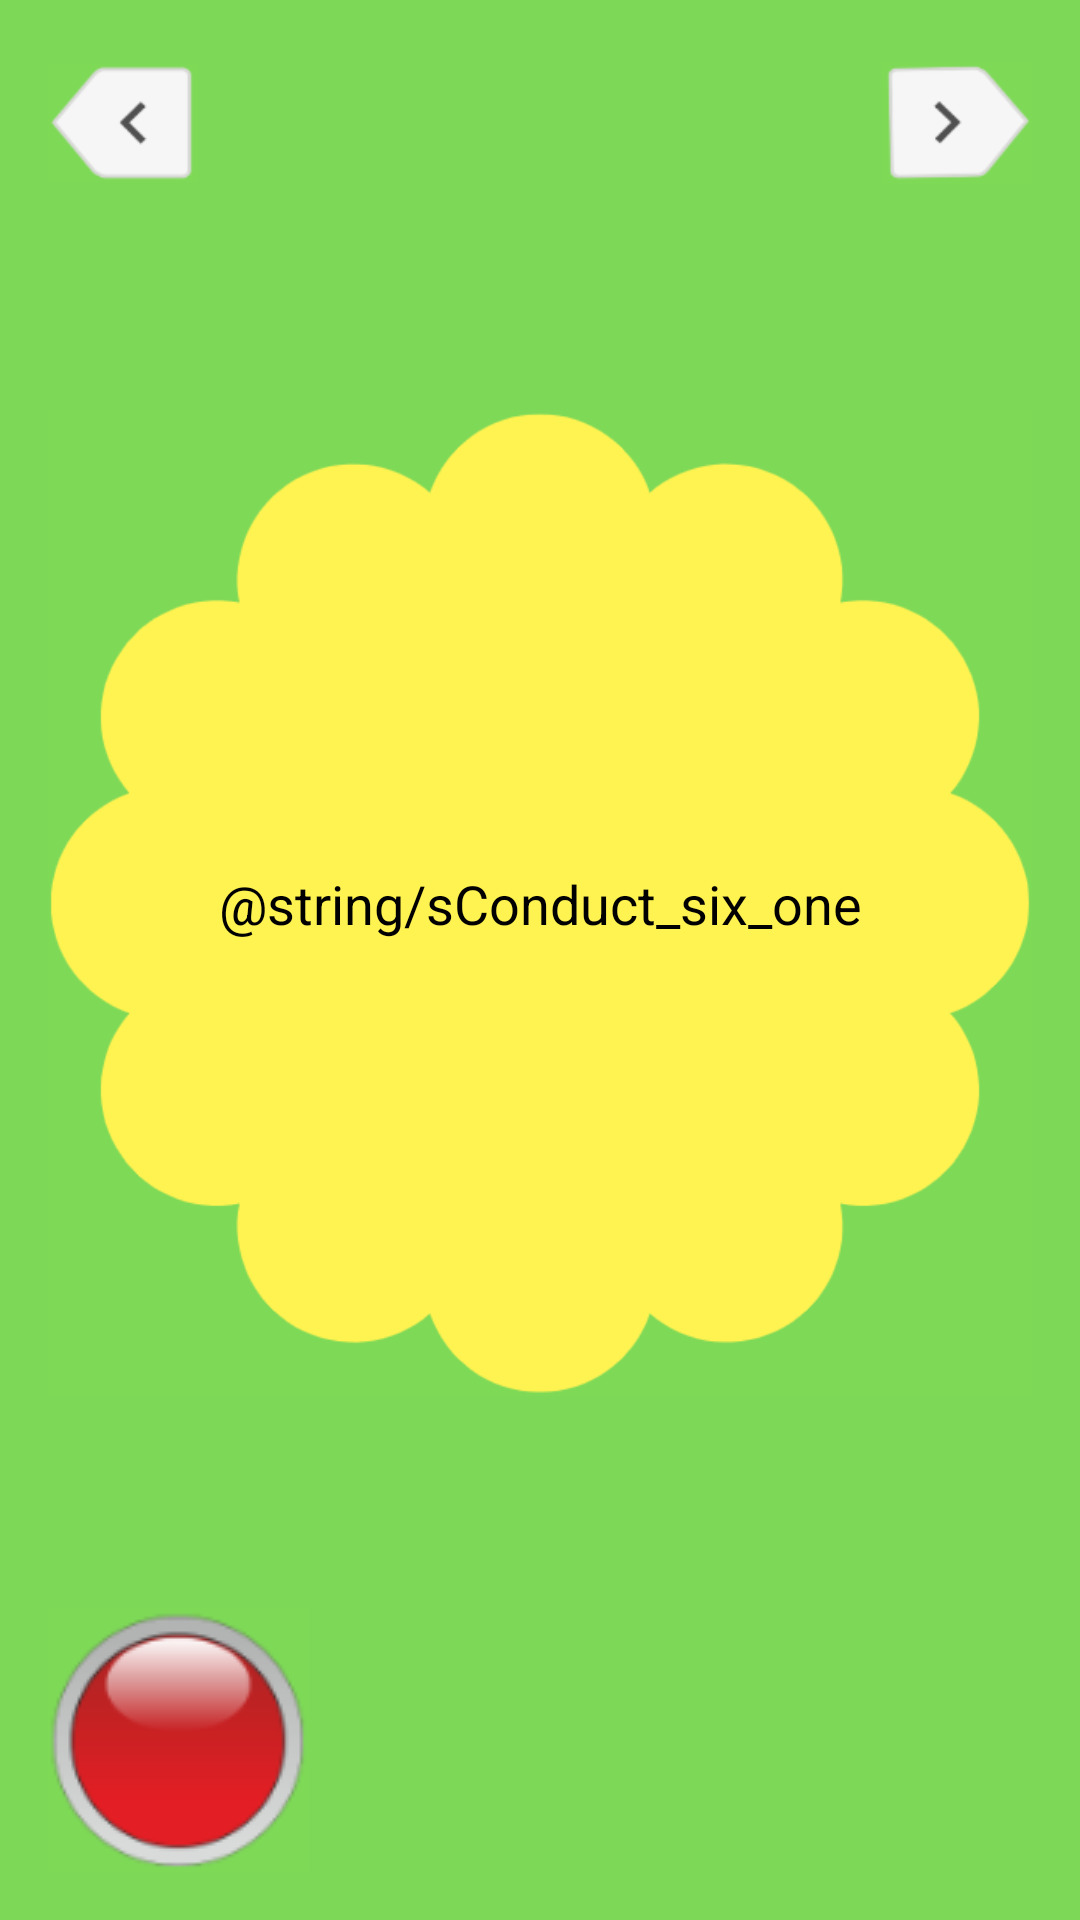

Icons on this 1080px×1920px Android screen, each with its box as box(x1, y1, x2, y2):
back: box(51, 67, 192, 179)
next: box(888, 66, 1029, 179)
